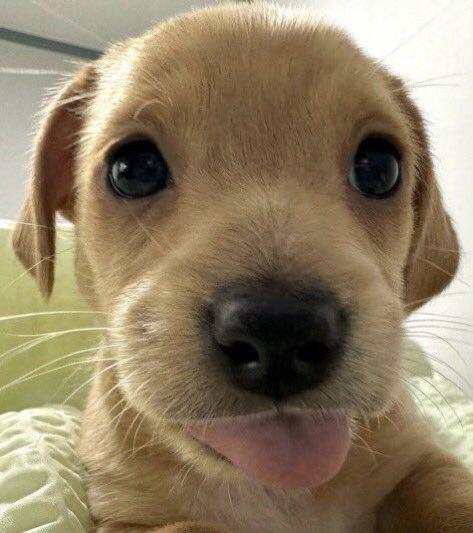puppy-dog: (8, 1, 473, 533)
